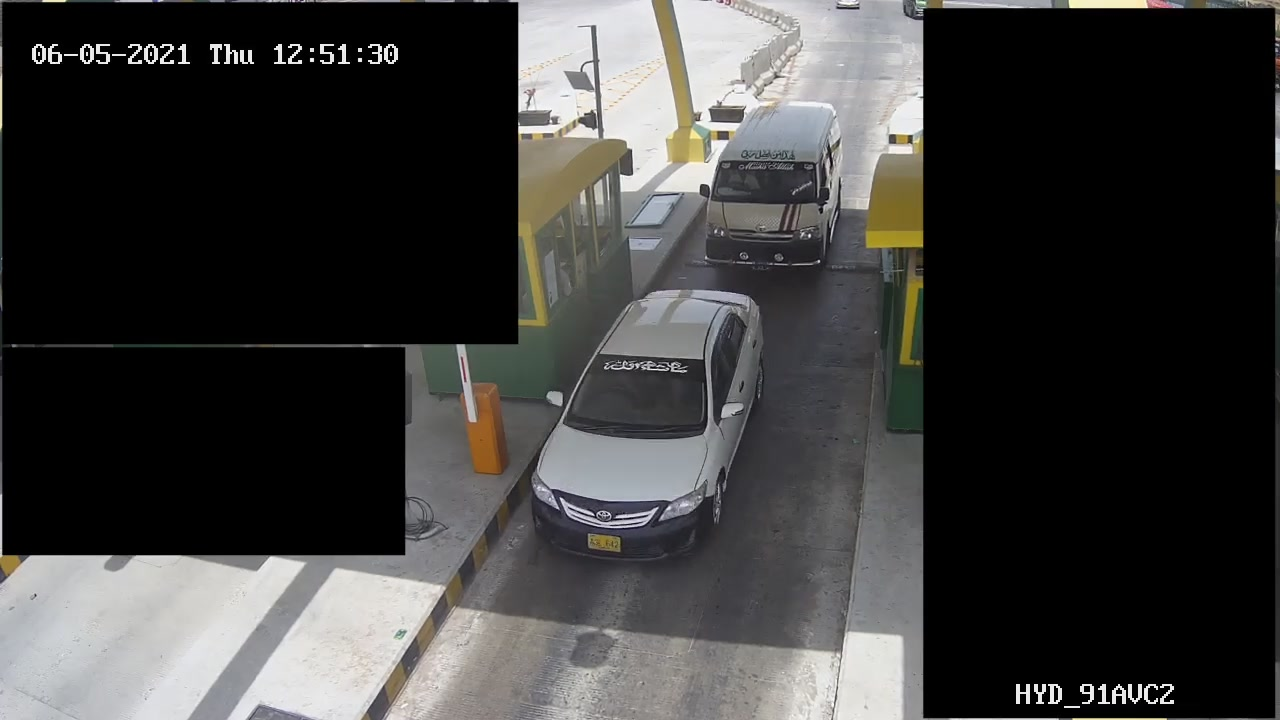F1: (529, 287, 772, 557)
F2: (697, 98, 852, 276)
